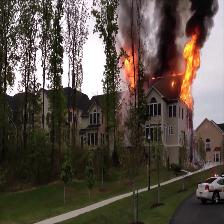fire: (184, 36, 200, 104), (124, 49, 143, 88)
smoke: (159, 0, 180, 68), (190, 0, 213, 34)
